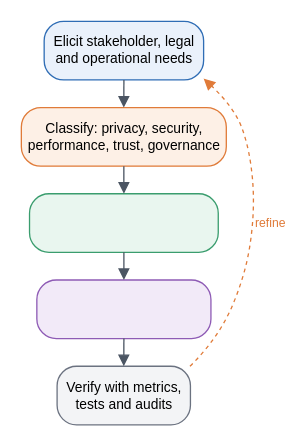
This 307x447 diagram has some shape labels left out. Here are the shapes that lost their labels. From the top down, the centre of each, then its label:
the point at 123,222: Specify measurable requirements and thresholds
the point at 123,309: Map to architecture layers and privacy controls
